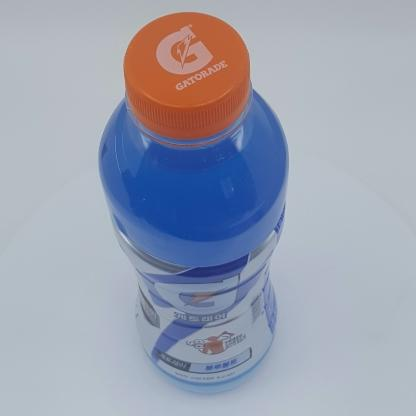----------600ML: (98, 12, 289, 393)
